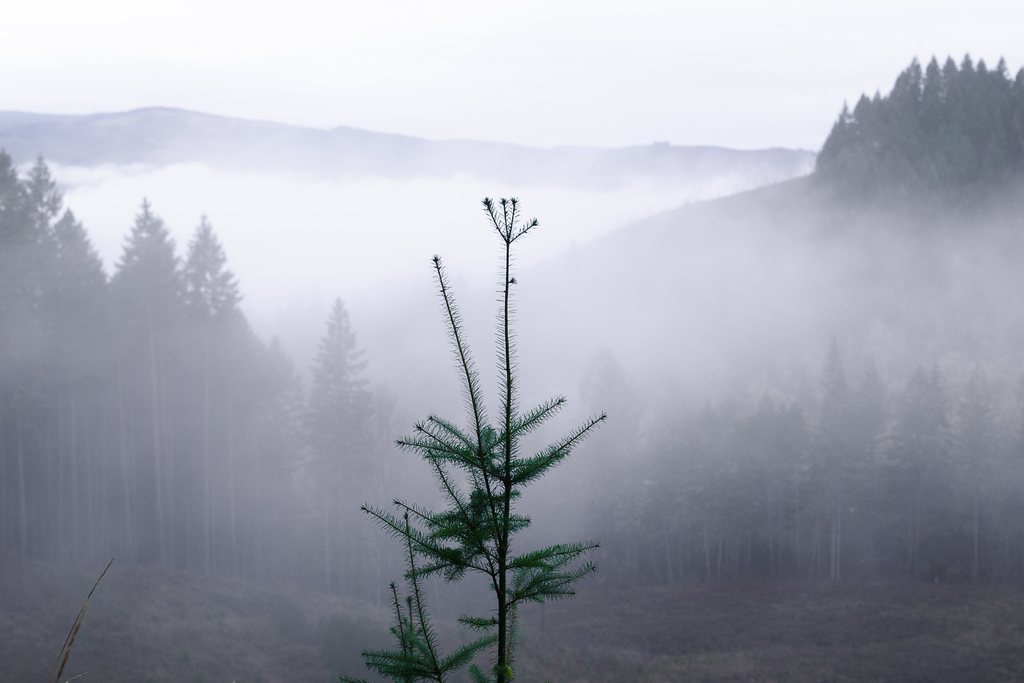Tree: (0, 153, 1024, 578), (788, 53, 1024, 354)
